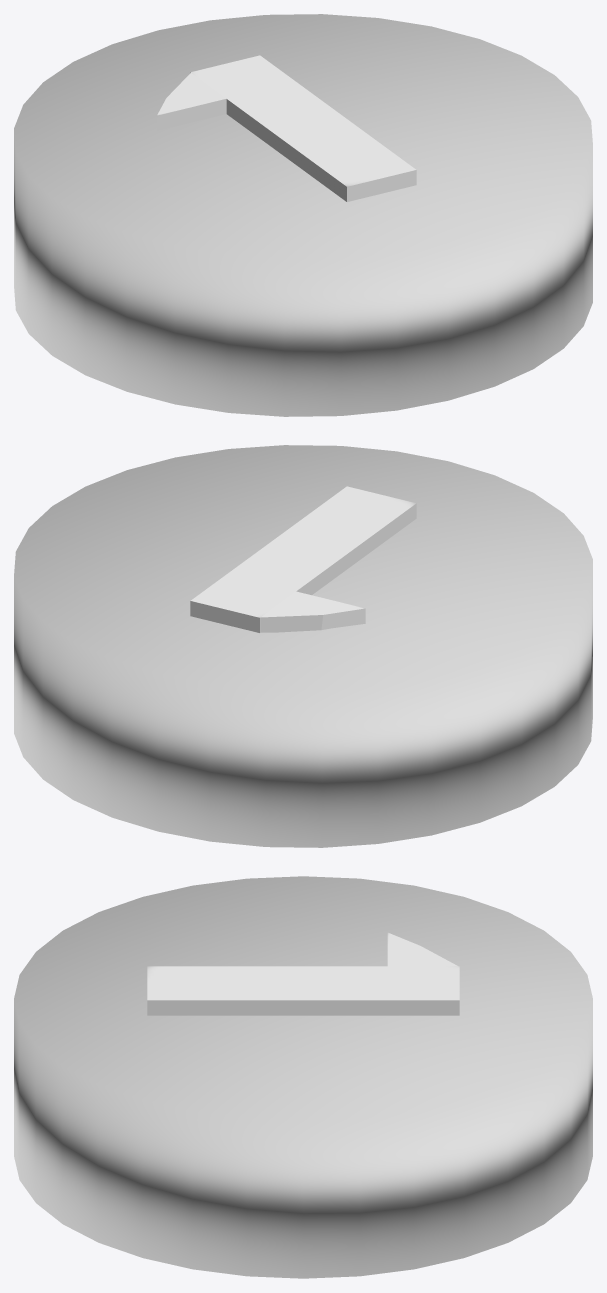
The model's file is Pellet1.fbx.
3 views of the same model, one above another, from view 1: azimuth 30°, elevation 25°; view 2: azimuth 150°, elevation 25°; view 3: azimuth 270°, elevation 25° (orthographic).
Visible parts, largest first — view 1: Pellet, One; view 2: Pellet, One; view 3: Pellet, One.
Boxes of the visible parts, x1,y1,x2,y2 form: Pellet: [14, 14, 592, 416]; One: [157, 55, 416, 201]; Pellet: [14, 445, 592, 847]; One: [190, 486, 416, 632]; Pellet: [14, 876, 592, 1278]; One: [147, 932, 459, 1015].
Size of the model in its own units: 156 by 51.59 by 156.
Materials: 2 (1 with a texture image).
